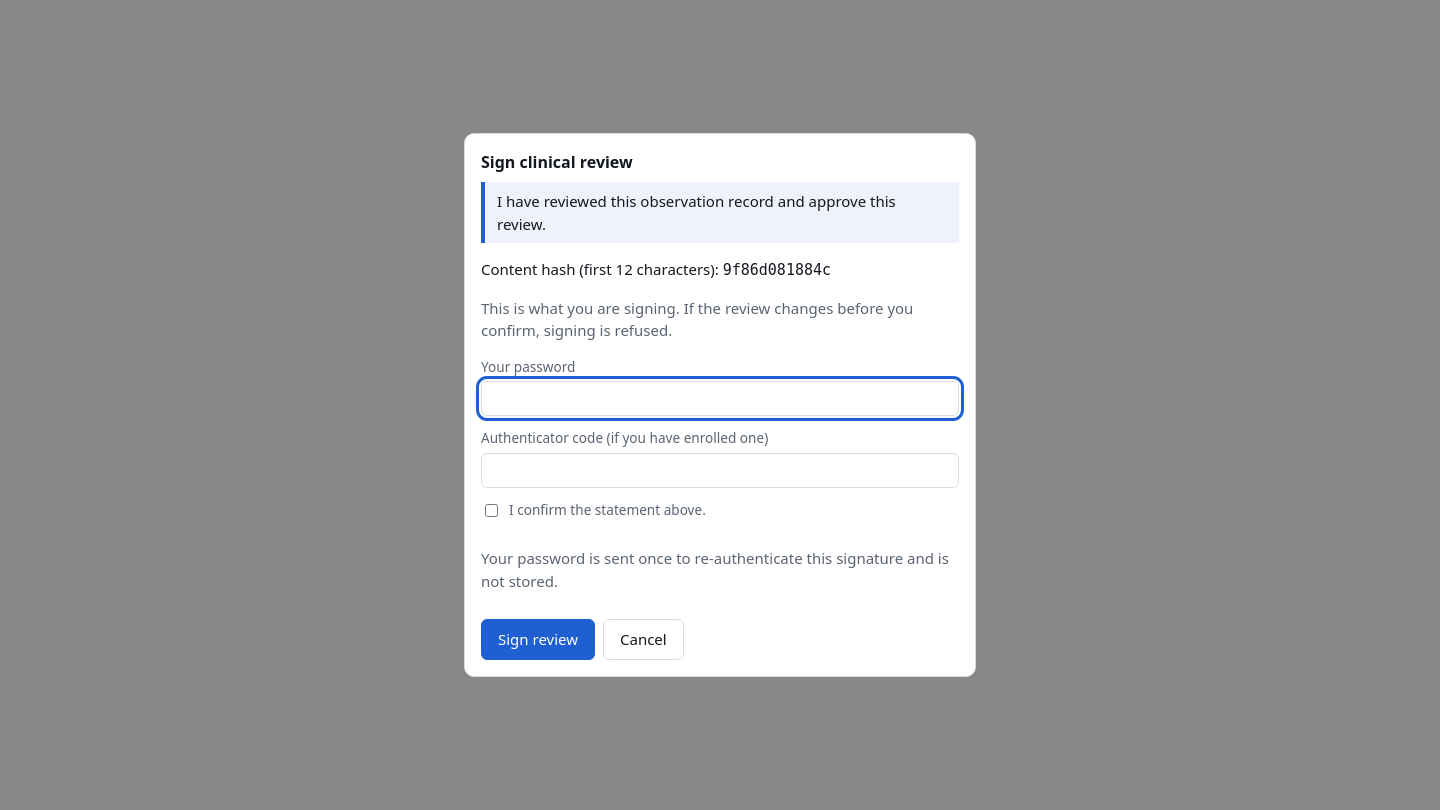
Test case: SignDialog › explains signer-profile-incomplete clearly
Type "pw" into the password field labelled "Your password" at (720, 399), box [481,381,959,416]
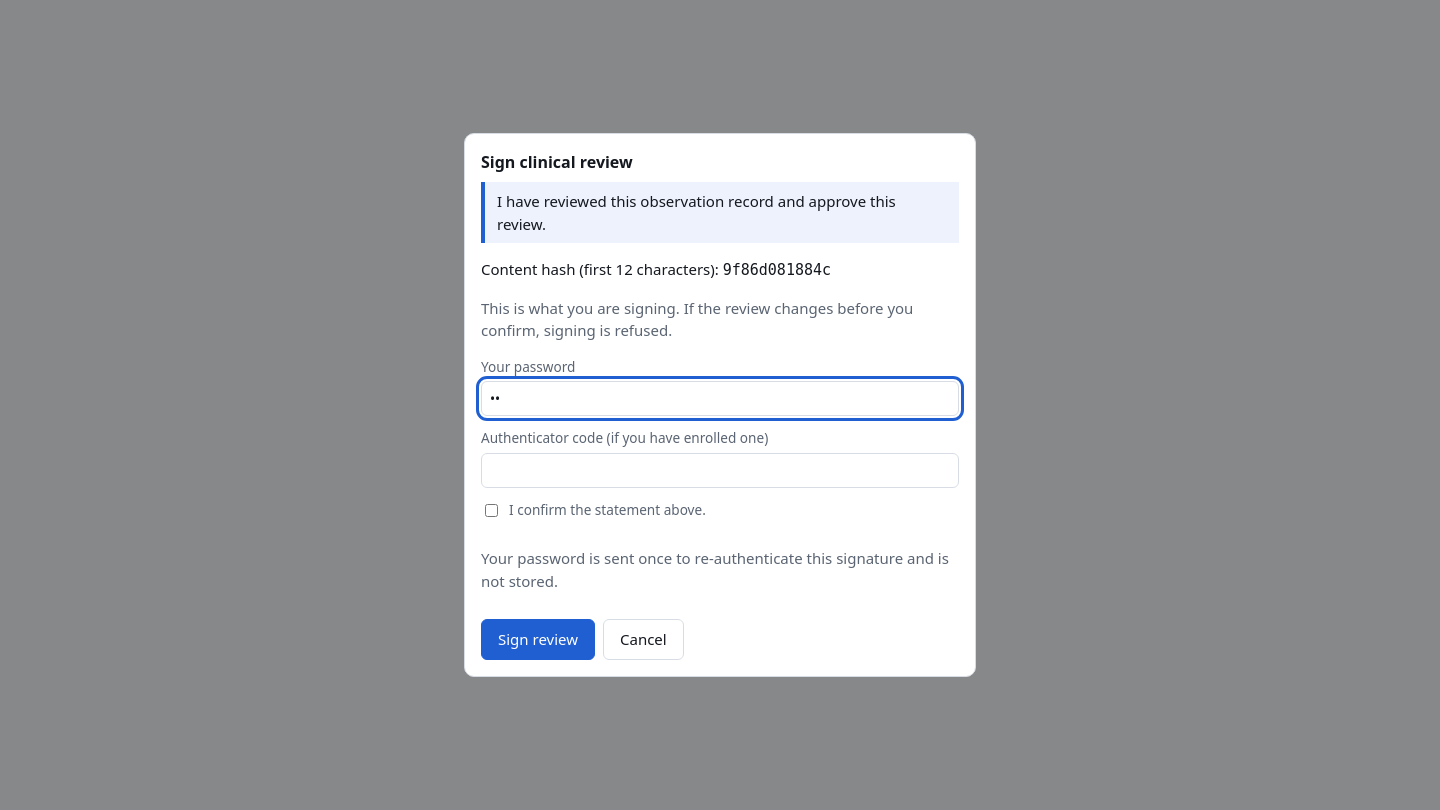
Click the checkbox labelled "I confirm the statement above." at (492, 510), box [485,504,498,516]
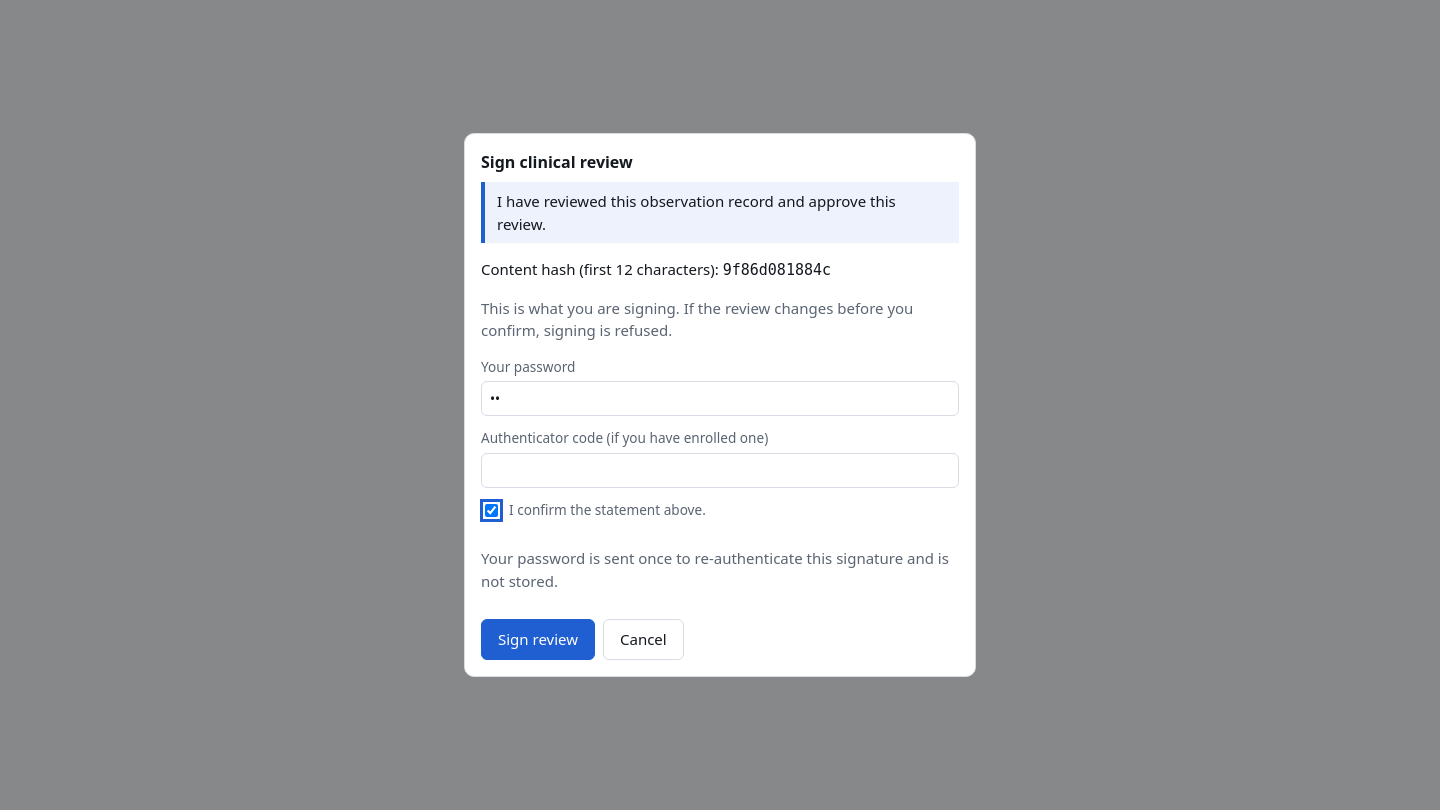
Click the button "Sign review" at (538, 640), box [481,619,595,660]
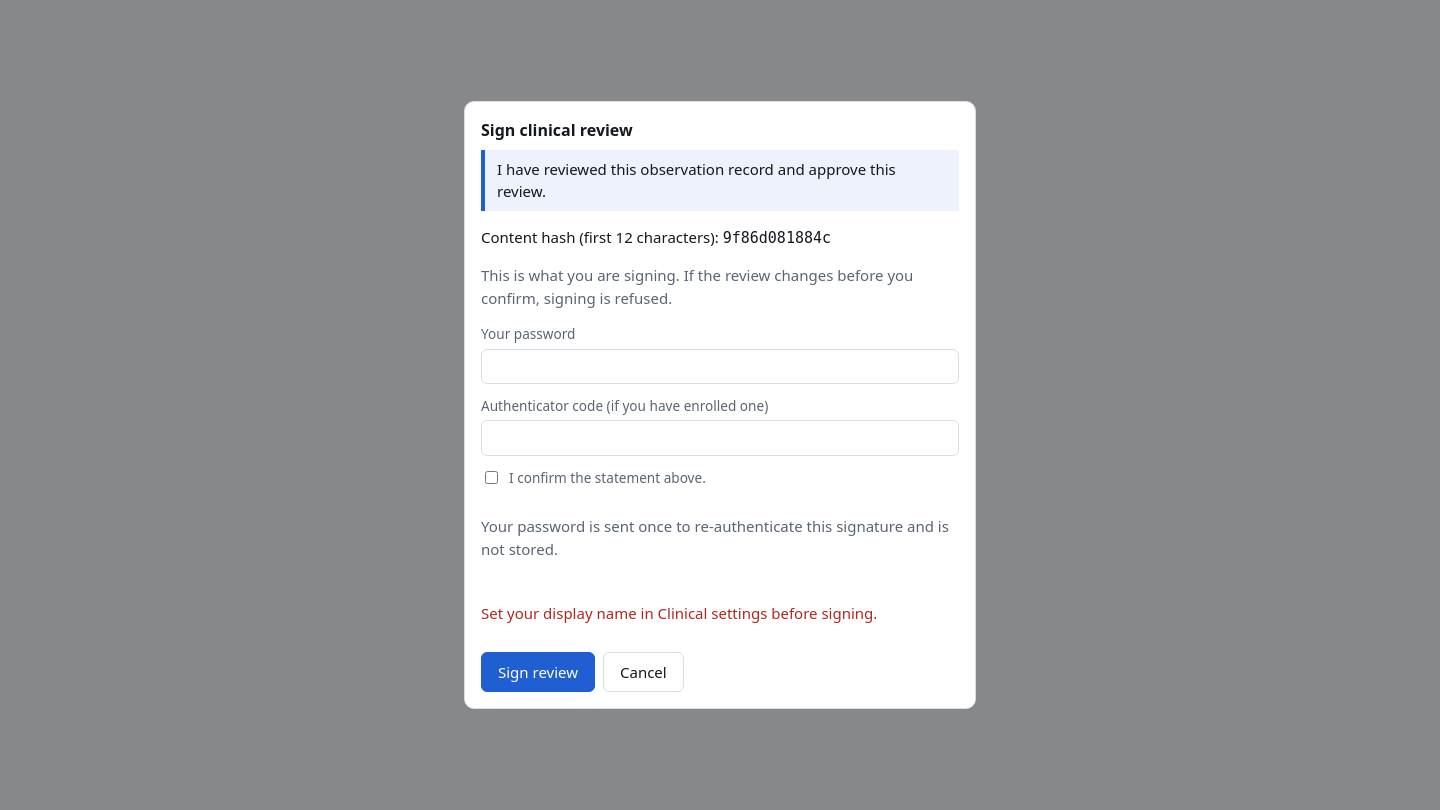
expect the message shows "display name in Clinical settings": met, box [481,603,877,623]
